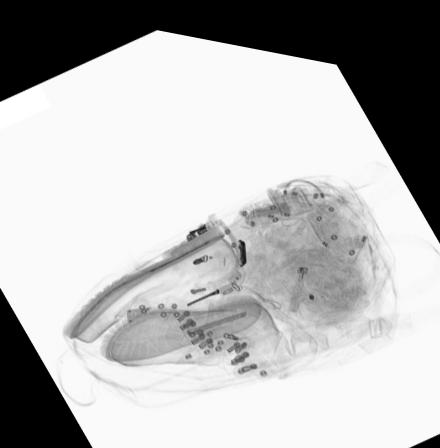Lighter: (288, 254, 308, 297)
